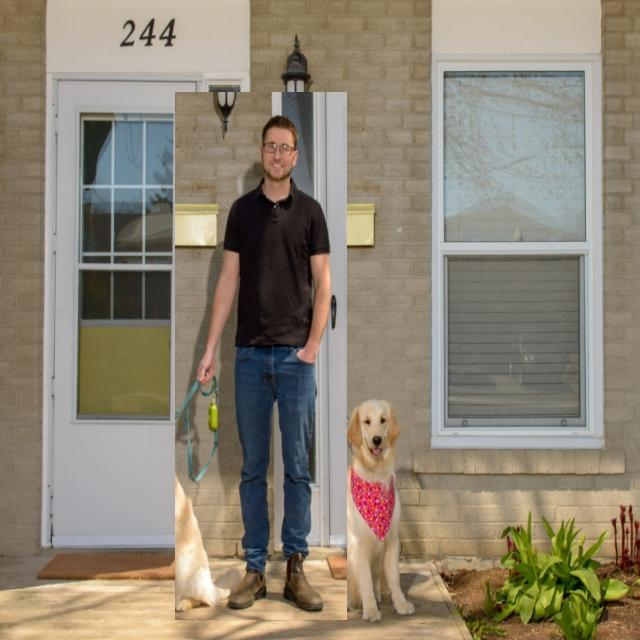NotFall: (156, 58, 387, 626)
